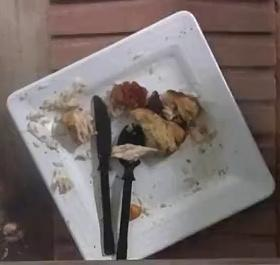pork: (109, 81, 201, 153)
